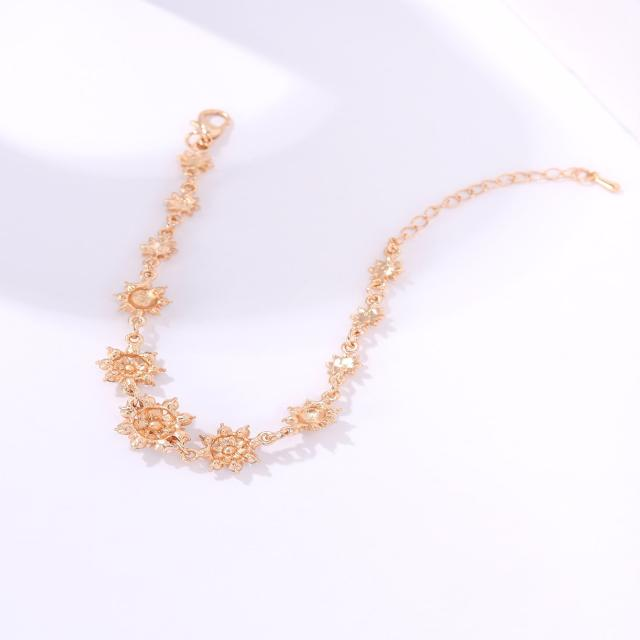bracelet: (51, 50, 640, 494)
